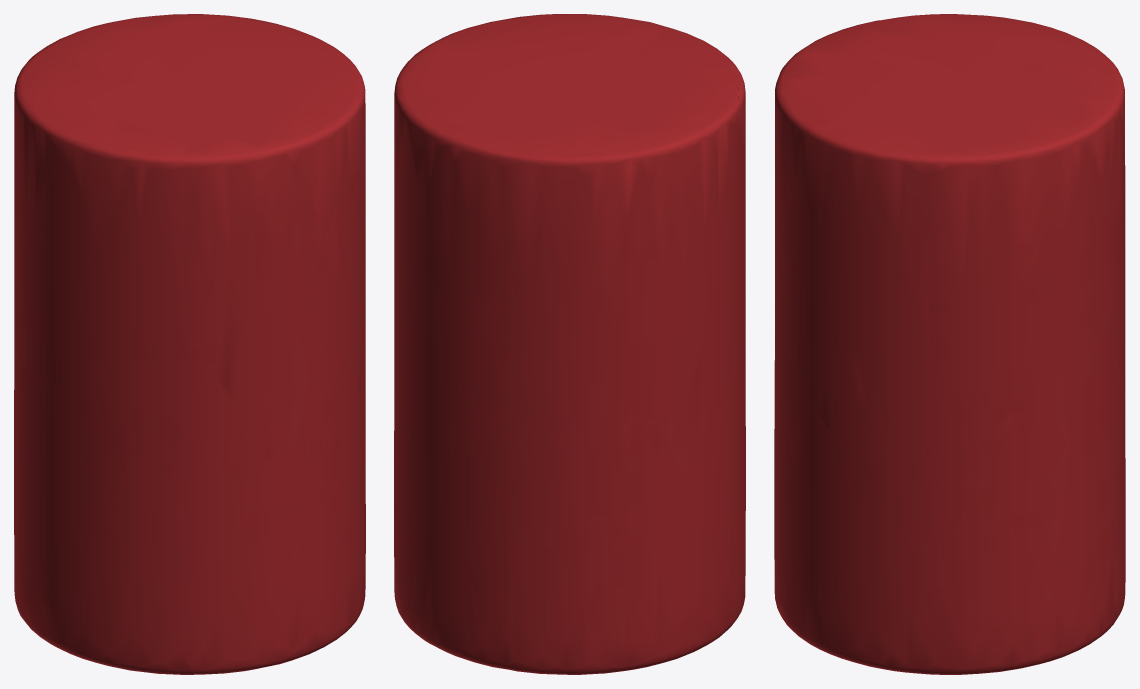
File: mailbox.glb
3 views of the same model, side by side, from view 1: azimuth 30°, elevation 25°; view 2: azimuth 150°, elevation 25°; view 3: azimuth 270°, elevation 25° (orthographic).
Visible parts, largest first — view 1: mailbox; view 2: mailbox; view 3: mailbox.
Part boxes in pixels (bbox=[...]): mailbox: bbox=[14, 14, 365, 674]; mailbox: bbox=[394, 14, 745, 674]; mailbox: bbox=[774, 14, 1125, 674].
Size of the model in its own units: 0.824 by 1.35 by 0.8247.
Materials: 1 (1 with a texture image).
